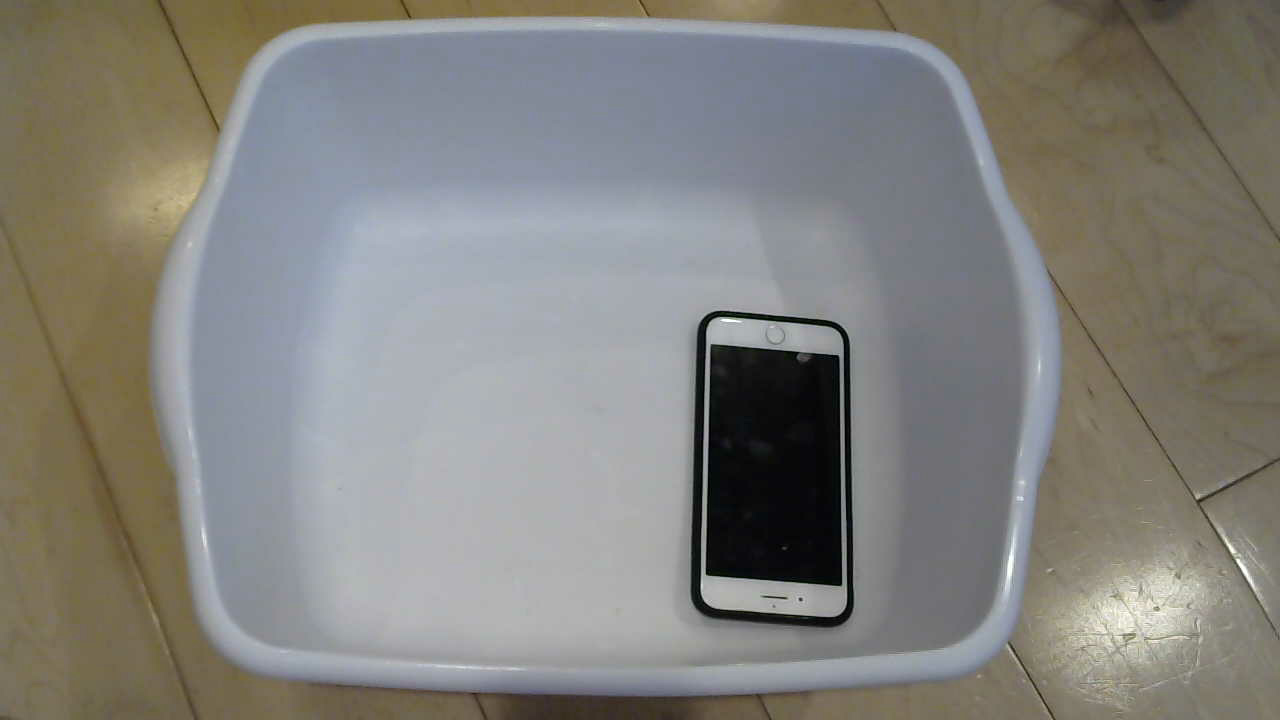phone: (680, 306, 887, 639)
